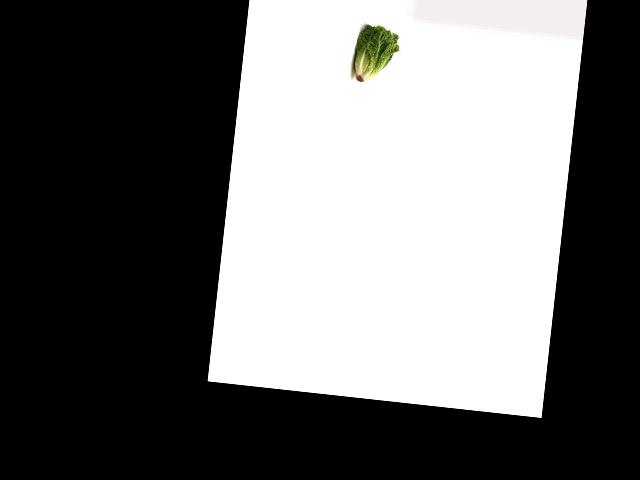lettuce: (350, 23, 401, 88)
